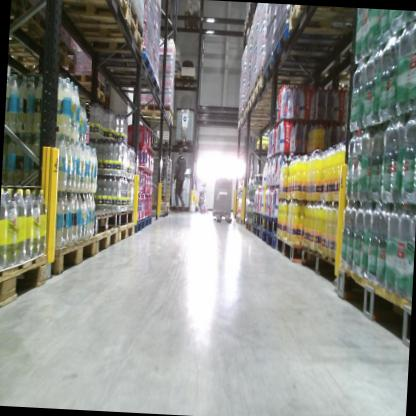pallet: (332, 260, 411, 346), (61, 4, 147, 57), (270, 22, 355, 63), (0, 251, 49, 314), (8, 1, 65, 50), (86, 47, 159, 85), (9, 46, 81, 82), (285, 6, 366, 37), (298, 237, 342, 292), (253, 70, 320, 105), (48, 233, 98, 278), (42, 0, 130, 25), (261, 52, 312, 88), (60, 76, 112, 111), (99, 72, 162, 95), (275, 233, 308, 271), (86, 209, 117, 236), (92, 227, 119, 257), (136, 107, 177, 126), (236, 117, 271, 136), (246, 95, 275, 115), (242, 106, 275, 122), (260, 226, 278, 253), (180, 11, 201, 31), (114, 209, 134, 229), (261, 213, 279, 235), (116, 222, 134, 244), (179, 72, 198, 90), (172, 70, 186, 90), (149, 201, 171, 213), (251, 224, 264, 243), (251, 210, 265, 227), (132, 217, 146, 232), (141, 213, 154, 228)
pallet_truck: (208, 159, 238, 228)
